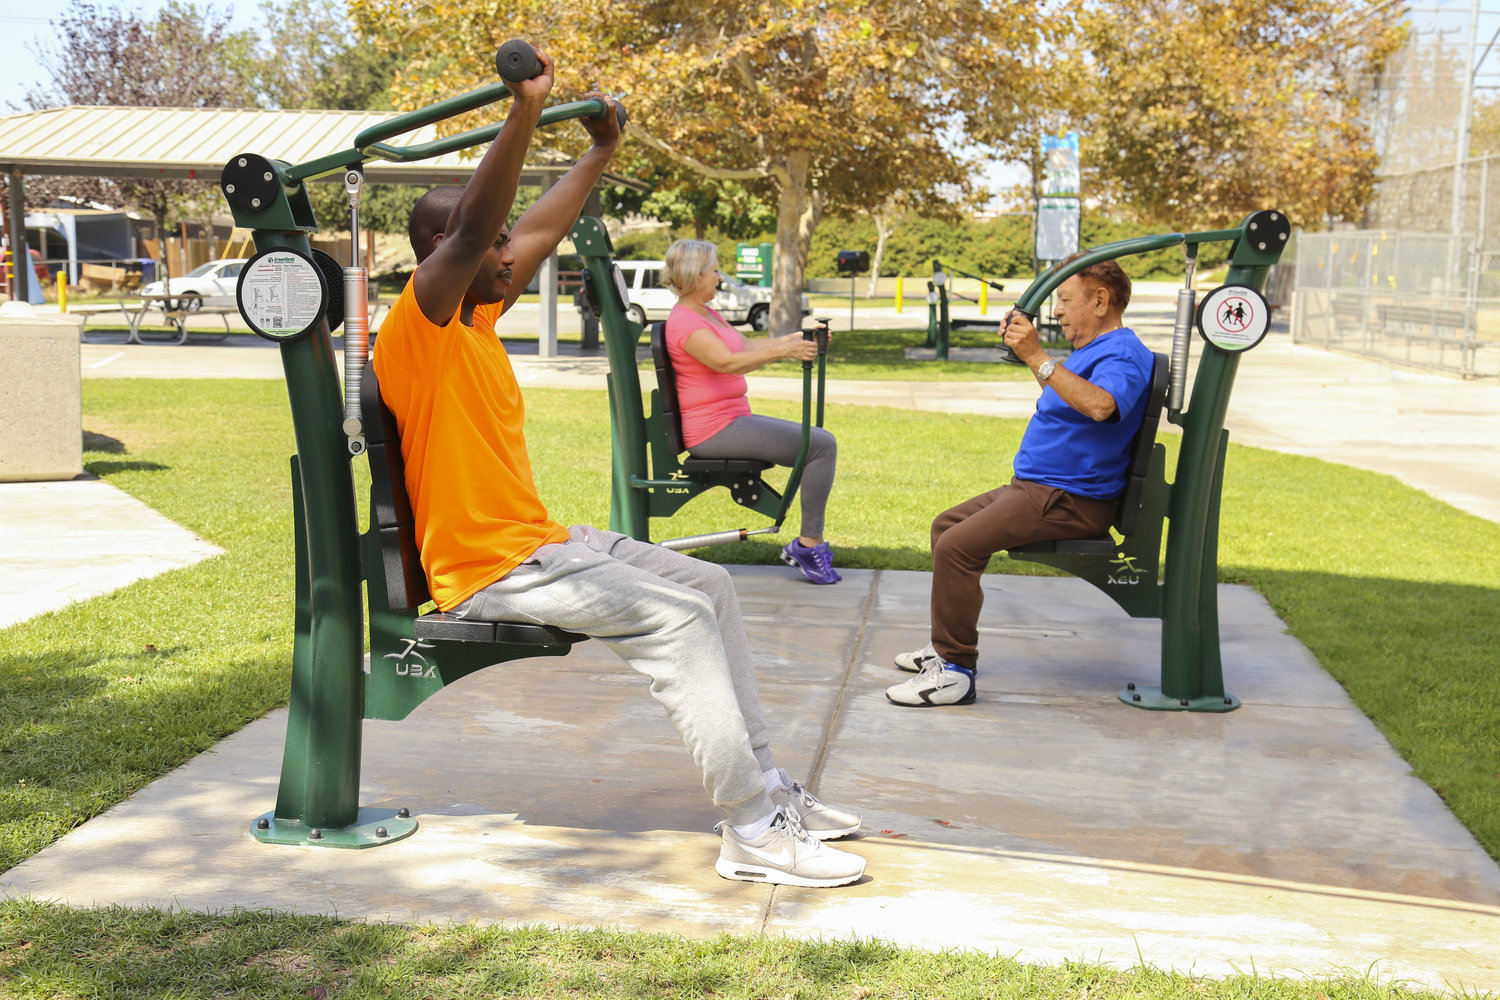Person: (285, 25, 883, 891), (859, 228, 1185, 783), (614, 183, 872, 589)
